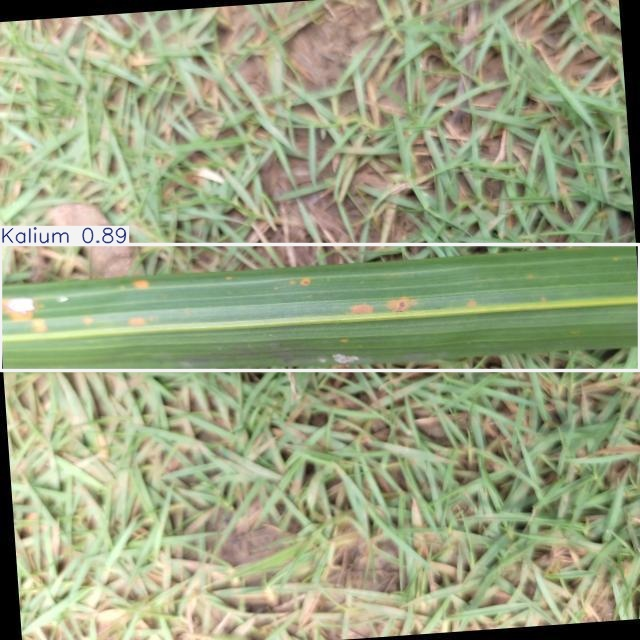Kalium: (1, 245, 640, 370)
